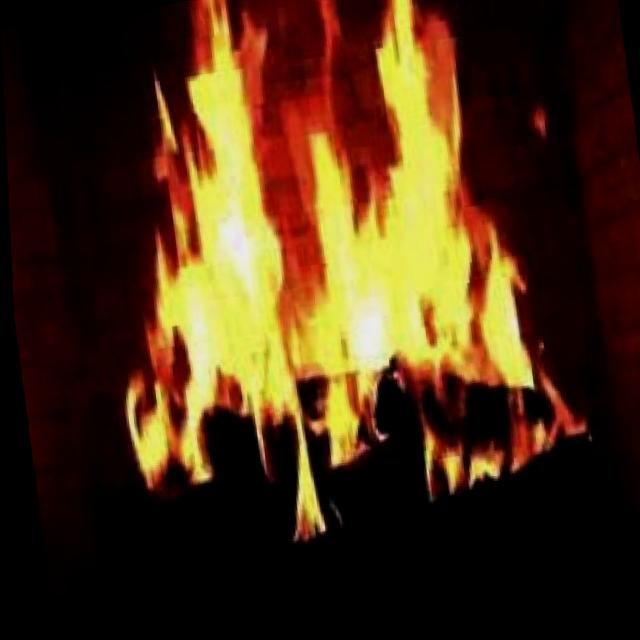helmet: (56, 0, 616, 585)
